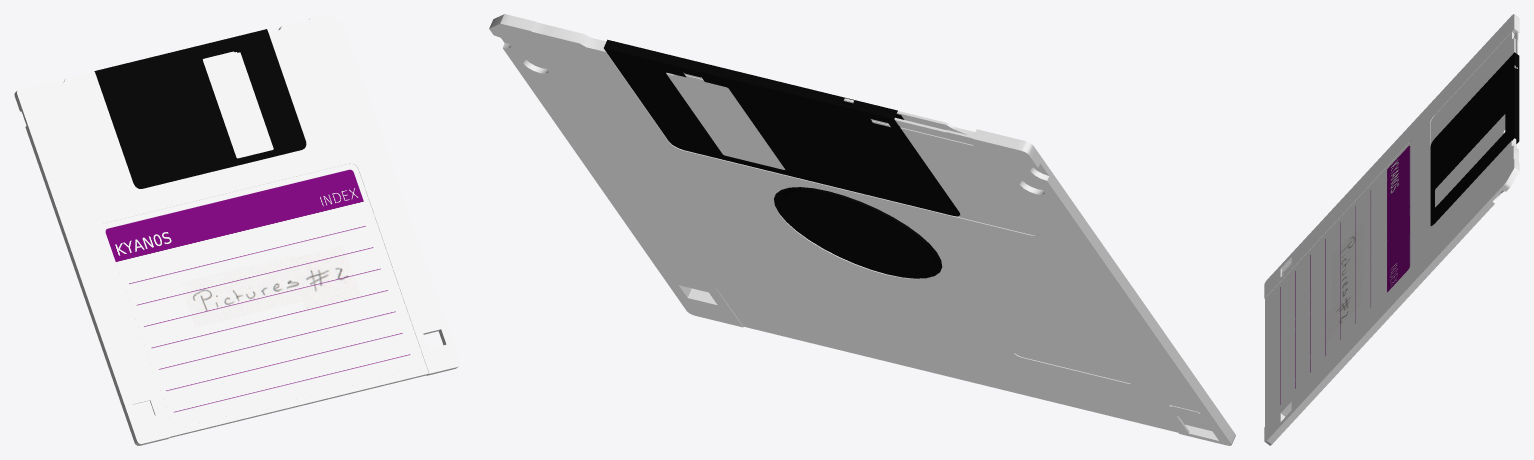
File: white_floppy_disk.glb
3 renders of one model, left to right at view 1: azimuth 30°, elevation 25°; view 2: azimuth 150°, elevation 25°; view 3: azimuth 270°, elevation 25°, orthographic. The views are drawn at different scales.
Parts seen in each view (by area): view 1: floppy-disk003, floppy-disk, Circle; view 2: floppy-disk, Circle, Circle001; view 3: floppy-disk, floppy-disk003, Circle.
Boxes of the visible parts, left/top/right/bottom form: floppy-disk003: left=105, top=169, right=420, bottom=428; floppy-disk: left=14, top=14, right=460, bottom=445; Circle: left=94, top=29, right=306, bottom=188; floppy-disk: left=489, top=14, right=1235, bottom=445; Circle: left=604, top=39, right=960, bottom=274; Circle001: left=774, top=187, right=942, bottom=278; floppy-disk: left=1264, top=14, right=1519, bottom=445; floppy-disk003: left=1269, top=145, right=1410, bottom=418; Circle: left=1430, top=52, right=1519, bottom=225.
Size of the model in its own units: 1.48 by 1.18 by 0.992.
Materials: 4 (1 with a texture image).
